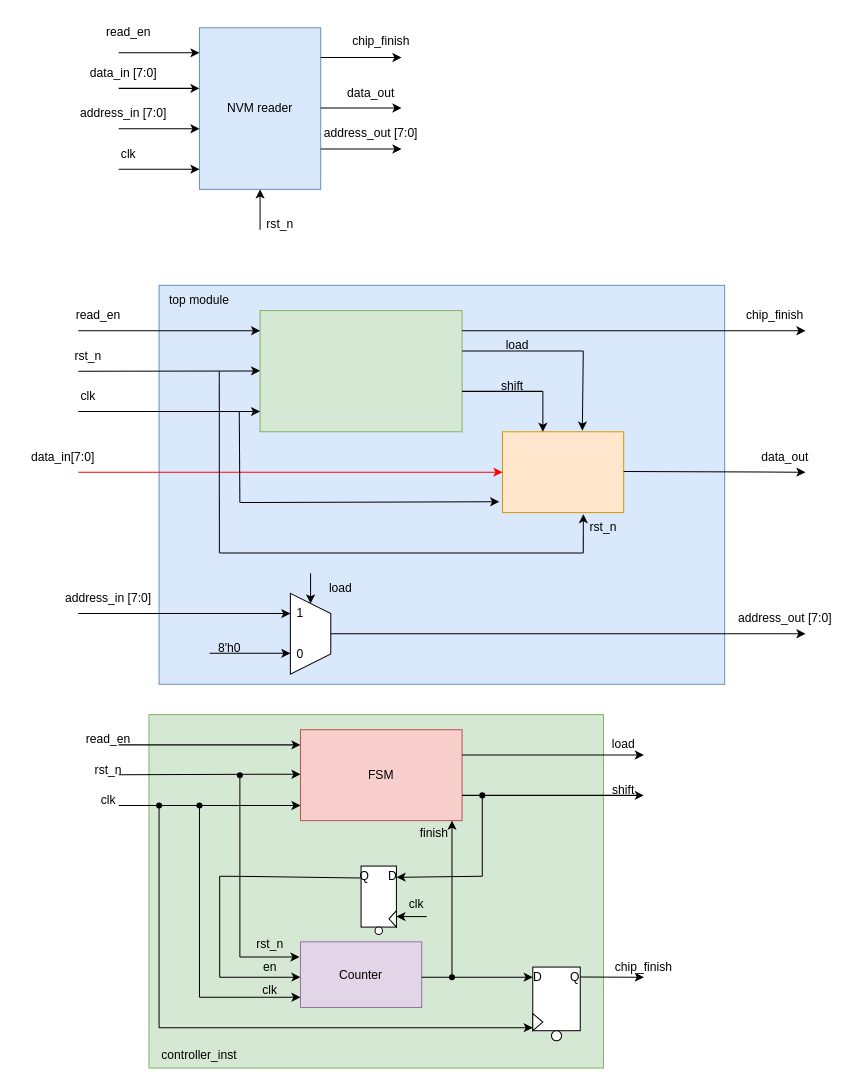
The diagram is 852 pixels wide and 1088 high, and some of its shapes have lost their labels. The box of each missing label's shape, as (x1, y1, x2, y2) in pixels:
controller: (259, 310, 462, 432)
PISO: (501, 431, 624, 513)
